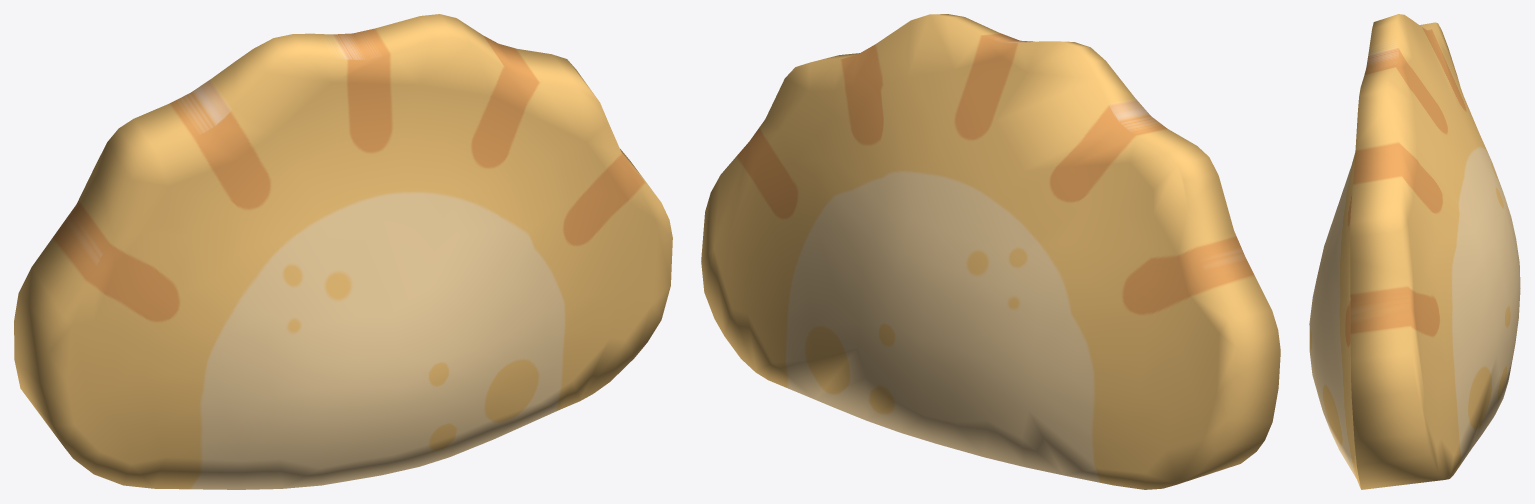
The model's file is brown_dumpling.glb.
3 renders of one model, left to right at view 1: azimuth 30°, elevation 25°; view 2: azimuth 150°, elevation 25°; view 3: azimuth 270°, elevation 25°, orthographic. The views are drawn at different scales.
Visible parts, largest first — view 1: brown_dumpling; view 2: brown_dumpling; view 3: brown_dumpling.
Part boxes in pixels (bbox=[...]): brown_dumpling: bbox=[14, 14, 672, 489]; brown_dumpling: bbox=[701, 14, 1280, 489]; brown_dumpling: bbox=[1309, 14, 1520, 489].
Bounding box in the file's own units: 0.7529 × 0.5089 × 0.2691.
1 material, 1 textured.
